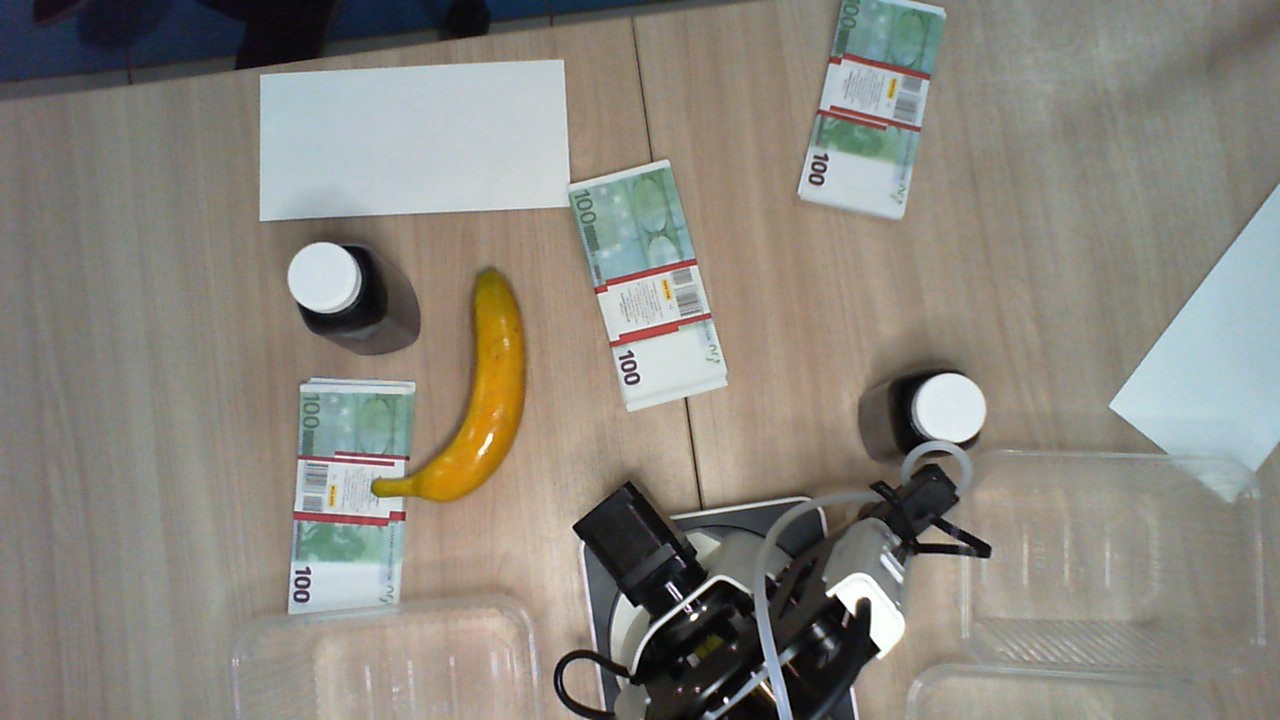banana: (370, 264, 530, 506)
bottle: (285, 239, 382, 335), (895, 365, 988, 455)
convert: (1108, 187, 1280, 500), (258, 57, 574, 221)
money: (568, 155, 733, 410), (798, 1, 950, 221), (287, 377, 418, 625)
